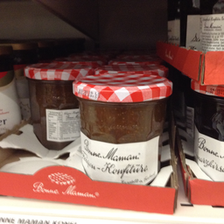jam: (69, 71, 174, 186), (23, 61, 92, 151)
